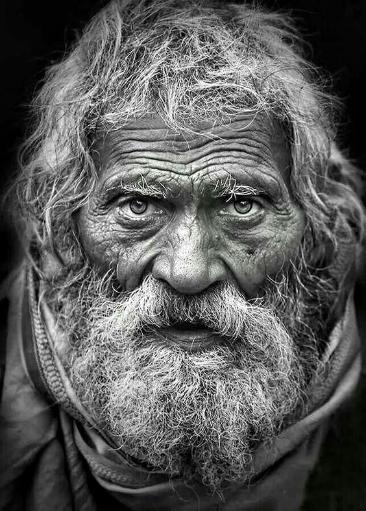left_eye: (216, 193, 269, 224)
right_eye: (113, 191, 173, 224)
